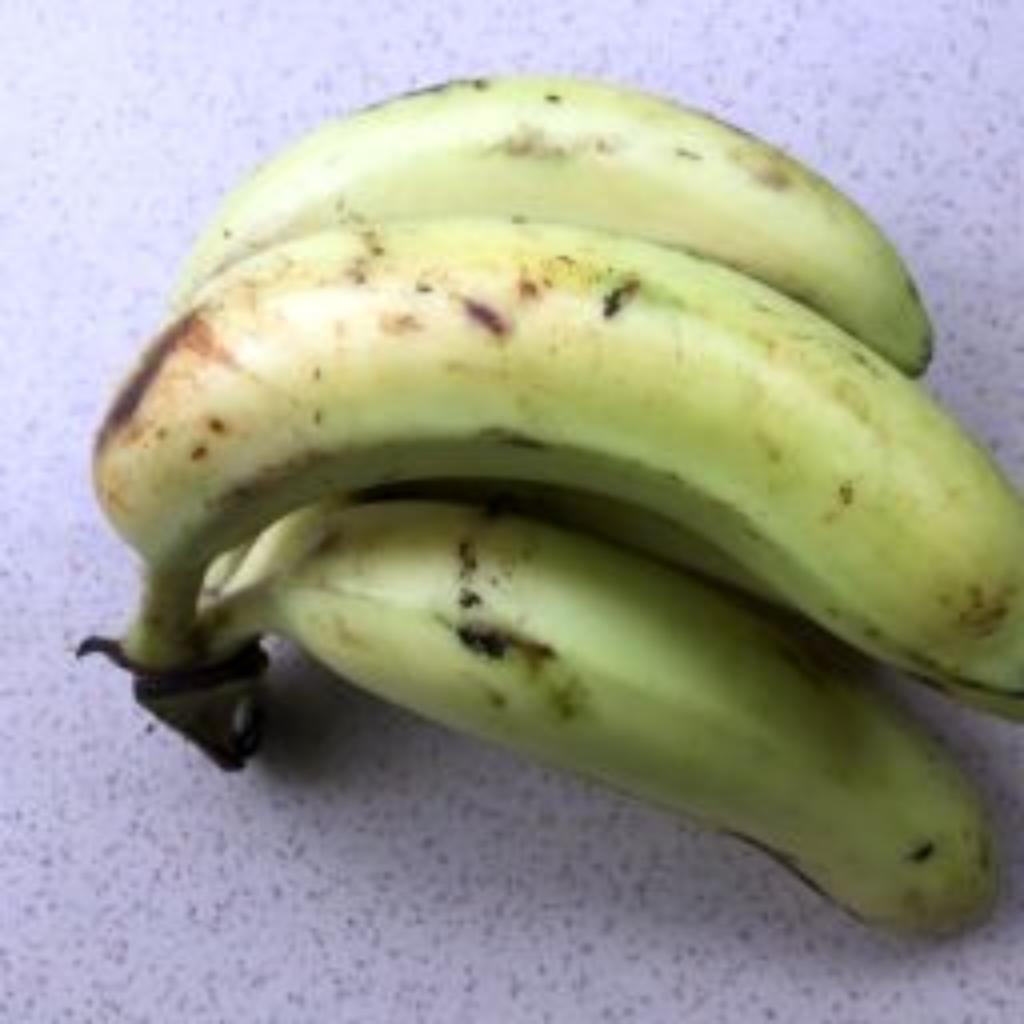banana: (98, 218, 1024, 691), (212, 500, 994, 931), (174, 76, 932, 375)
